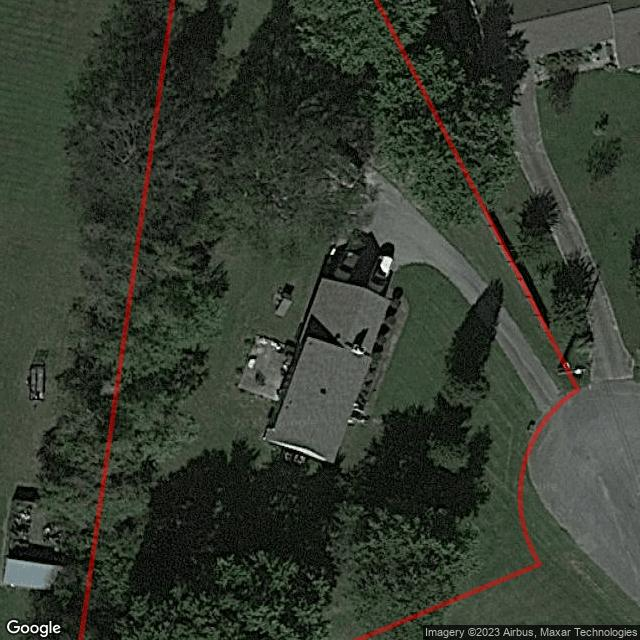Driveway: (366, 170, 486, 304), (498, 309, 558, 409)
House: (258, 277, 392, 469)
Sidewalk: (239, 336, 286, 400)
